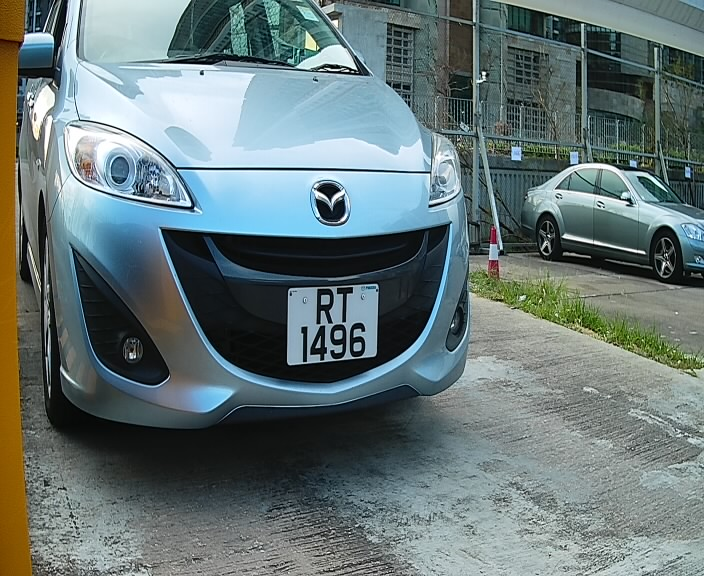Car: (1, 2, 479, 470)
License Plate: (283, 274, 383, 375)
